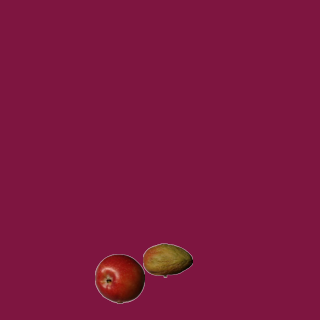Apple Braeburn: (94, 253, 144, 303)
Papaya: (142, 235, 192, 285)
